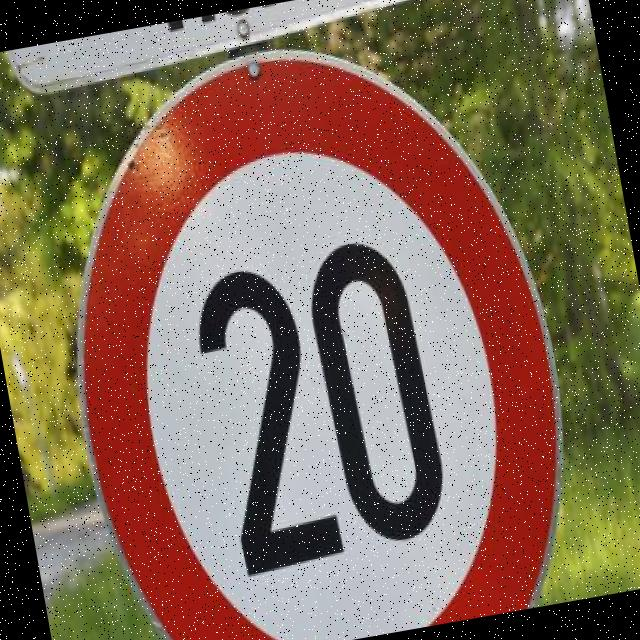speed_limit_20: (20, 7, 608, 640)
